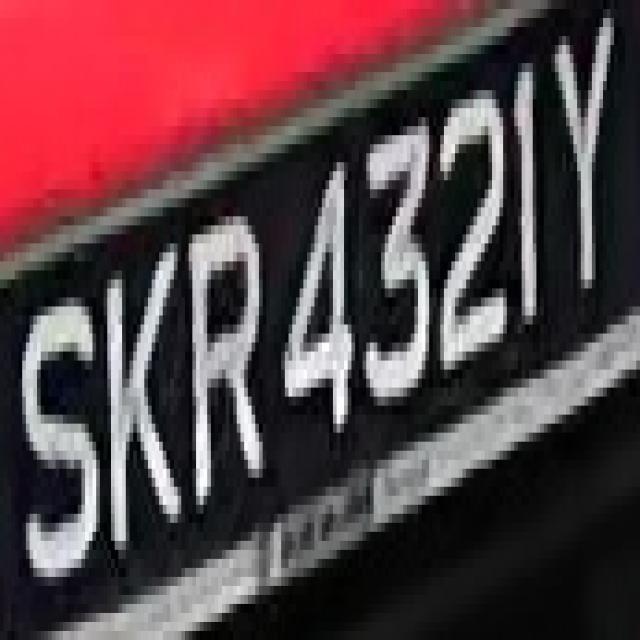1: (518, 36, 547, 352)
2: (426, 81, 514, 379)
3: (351, 108, 433, 406)
4: (270, 153, 363, 451)
K: (104, 234, 192, 577)
R: (178, 171, 270, 523)
S: (26, 270, 111, 604)
Y: (544, 0, 618, 297)
